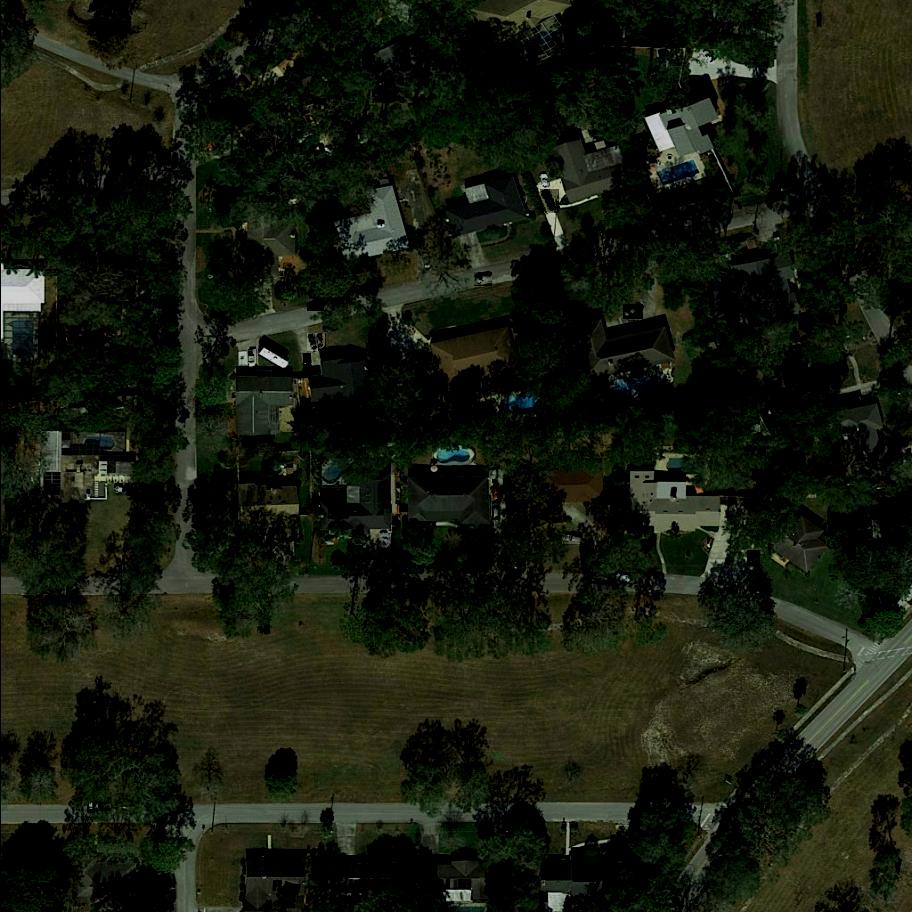small-vehicle: (540, 188, 559, 213), (623, 305, 644, 321), (613, 571, 636, 585), (114, 483, 134, 498), (700, 49, 716, 67), (474, 273, 494, 287), (314, 333, 327, 352), (379, 532, 392, 550), (562, 535, 583, 546), (88, 803, 111, 813), (748, 550, 761, 567), (490, 485, 502, 503), (308, 333, 319, 352), (248, 349, 258, 369), (303, 354, 312, 371), (492, 502, 499, 519), (308, 304, 324, 311), (542, 174, 549, 188), (492, 467, 498, 483)
